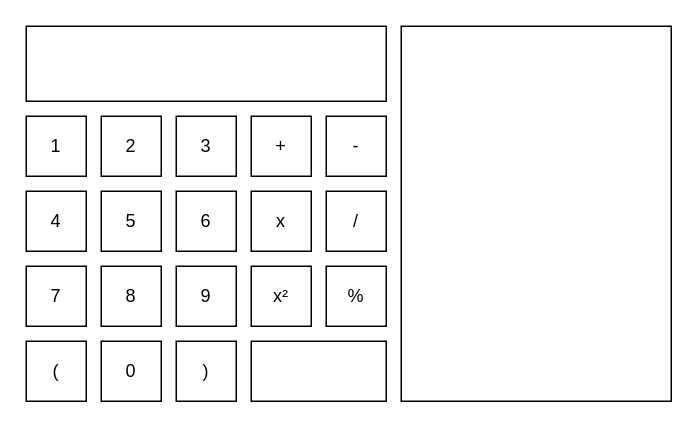
This 698x428 diagram has some shape labels left out. Here are the shapes that lost their labels. From the top down, the box of each, then its label:
(25, 25, 386, 101): Display
(400, 25, 671, 401): History
(250, 340, 386, 401): AC
